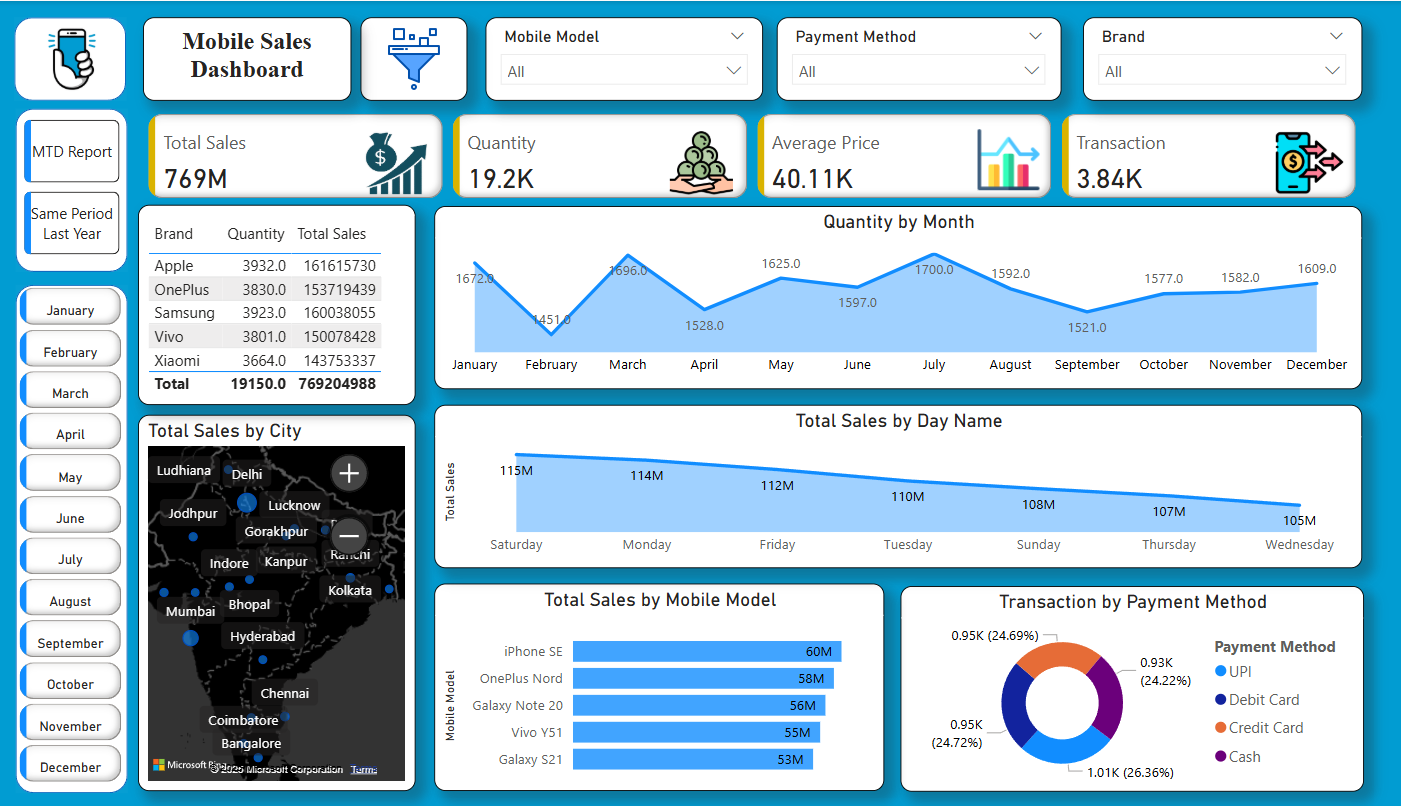

Layout of this report page (visuals, bound fields, positions):
{"tool":"powerbi","page":{"name":"Dashboard","canvas":[1280,720],"ordinal":0},"visuals":[{"type":"shape","box":[14.5,14.5,100.1,74.8],"z":0},{"type":"image","box":[21.7,10.9,86.9,80.8],"z":1000},{"type":"shape","box":[15.7,252.1,100.1,452.4],"z":2000},{"type":"shape","box":[15.7,95.3,100.1,146],"z":3000},{"type":"advancedSlicerVisual","fields":{"Values":["Custom_Calender.Date.Variation.Date Hierarchy.Month"]},"box":[14.5,250.9,100.1,452.4],"z":4000},{"type":"cardVisual","fields":{"Data":["Mobile_Sales_Data.Total Sales","Mobile_Sales_Data.Quantity","Mobile_Sales_Data.Average Price","Mobile_Sales_Data.Transaction"]},"box":[129.1,95.3,1087,85.7],"z":5000},{"type":"slicer","fields":{"Values":["Mobile_Sales_Data.Mobile Model"]},"box":[434.3,14.5,247.3,74.8],"z":6000},{"type":"slicer","fields":{"Values":["Mobile_Sales_Data.Payment Method"]},"box":[693.7,14.5,253.4,74.8],"z":7000},{"type":"slicer","fields":{"Values":["Mobile_Sales_Data.Brand"]},"box":[966.4,14.5,248.5,74.8],"z":8000},{"type":"image","box":[323.3,14.5,95.3,74.8],"z":9000},{"type":"textbox","box":[129.1,14.5,185.8,74.8],"z":10000},{"type":"map","fields":{"Category":["Mobile_Sales_Data.City"],"Size":["Mobile_Sales_Data.Total Sales"]},"box":[124.3,368,247.3,335.4],"z":11000},{"type":"lineChart","fields":{"Y":["Mobile_Sales_Data.Quantity"],"Category":["Custom_Calender.Date.Variation.Date Hierarchy.Month"]},"box":[388.5,182.2,826.4,162.9],"z":12000},{"type":"donutChart","fields":{"Y":["Mobile_Sales_Data.Transaction"],"Category":["Mobile_Sales_Data.Payment Method"]},"box":[803.5,521.2,412.6,183.4],"z":13000},{"type":"clusteredBarChart","fields":{"Y":["Mobile_Sales_Data.Total Sales"],"Category":["Mobile_Sales_Data.Mobile Model"]},"box":[388.5,518.8,400.5,184.6],"z":14000},{"type":"stackedAreaChart","fields":{"Y":["Mobile_Sales_Data.Total Sales"],"Category":["Mobile_Sales_Data.Day Name"]},"box":[388.5,359.5,826.4,146],"z":15000},{"type":"tableEx","fields":{"Values":["Mobile_Sales_Data.Brand","Mobile_Sales_Data.Quantity","Mobile_Sales_Data.Total Sales"]},"box":[124.3,181,247.3,178.6],"z":16000},{"type":"pageNavigator","box":[22.9,106.2,85.7,121.9],"z":17000}]}

Visuals, with their boxes in screenshot pixels (x1, y1, x2, y2), scaled from the page's 1280x720 canvas onto the 1401x806 screenshot:
shape: crop(16, 16, 125, 100)
image: crop(24, 12, 119, 103)
shape: crop(17, 282, 127, 789)
shape: crop(17, 107, 127, 270)
advancedSlicerVisual - Custom_Calender.Date.Variation.Date Hierarchy.Month: crop(16, 281, 125, 787)
cardVisual - Mobile_Sales_Data.Total Sales x Mobile_Sales_Data.Quantity: crop(141, 107, 1331, 203)
slicer - Mobile_Sales_Data.Mobile Model: crop(475, 16, 746, 100)
slicer - Mobile_Sales_Data.Payment Method: crop(759, 16, 1037, 100)
slicer - Mobile_Sales_Data.Brand: crop(1058, 16, 1330, 100)
image: crop(354, 16, 458, 100)
textbox: crop(141, 16, 345, 100)
map - Mobile_Sales_Data.City x Mobile_Sales_Data.Total Sales: crop(136, 412, 407, 787)
lineChart - Mobile_Sales_Data.Quantity x Custom_Calender.Date.Variation.Date Hierarchy.Month: crop(425, 204, 1330, 386)
donutChart - Mobile_Sales_Data.Transaction x Mobile_Sales_Data.Payment Method: crop(879, 583, 1331, 789)
clusteredBarChart - Mobile_Sales_Data.Total Sales x Mobile_Sales_Data.Mobile Model: crop(425, 581, 864, 787)
stackedAreaChart - Mobile_Sales_Data.Total Sales x Mobile_Sales_Data.Day Name: crop(425, 402, 1330, 566)
tableEx - Mobile_Sales_Data.Brand x Mobile_Sales_Data.Quantity: crop(136, 203, 407, 403)
pageNavigator: crop(25, 119, 119, 255)
